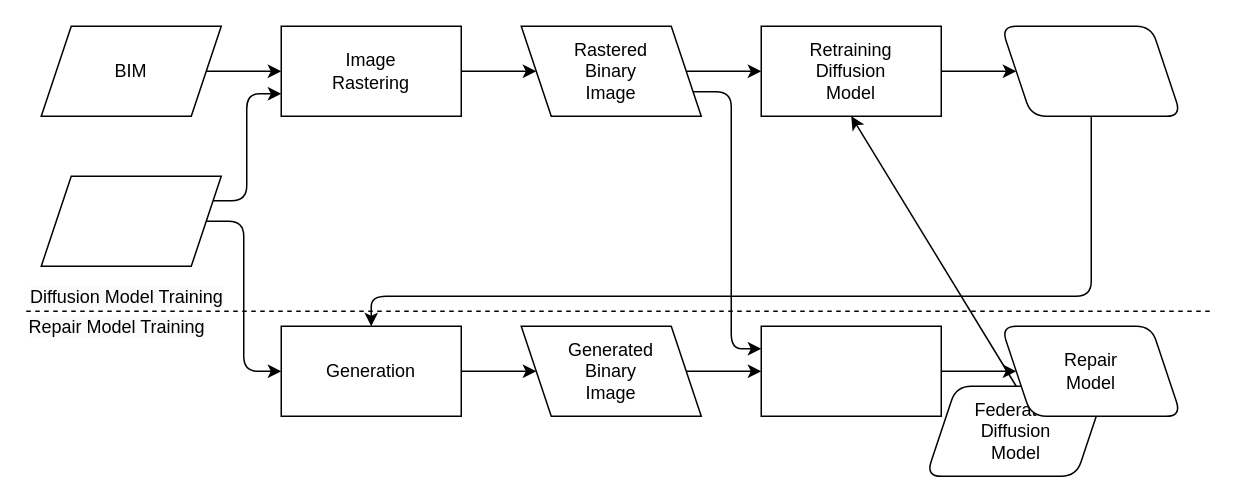
This 1239x503 diagram has some shape labels left out. Here are the shapes that lost their labels. From the top down, the box of each, then its label:
(1000, 25, 1181, 116): Refined Diffusion Model
(40, 175, 221, 266): Text Query
(760, 325, 941, 416): Training Repair Net
